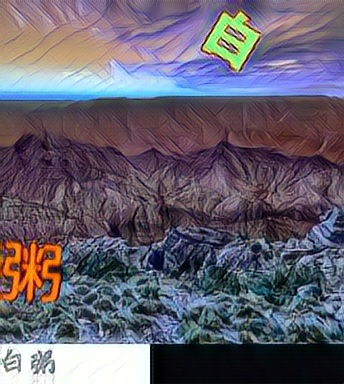B0D7: (198, 9, 260, 73)
D6E0: (1, 240, 63, 304)
